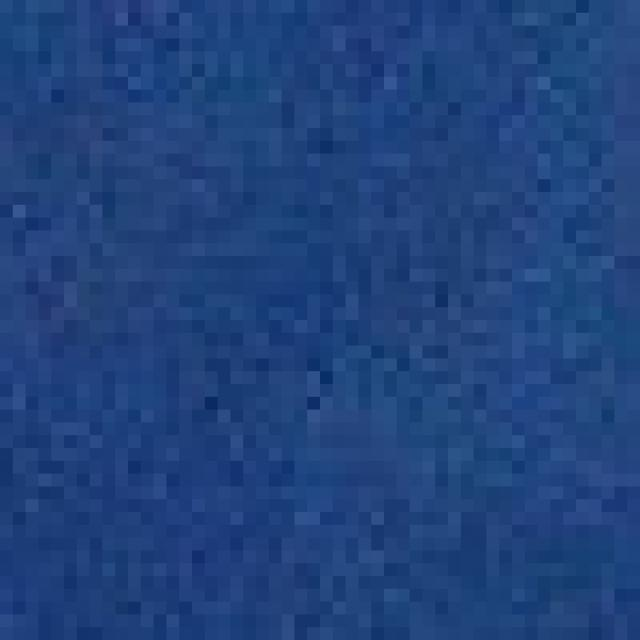no_fire: (13, 0, 640, 614)
